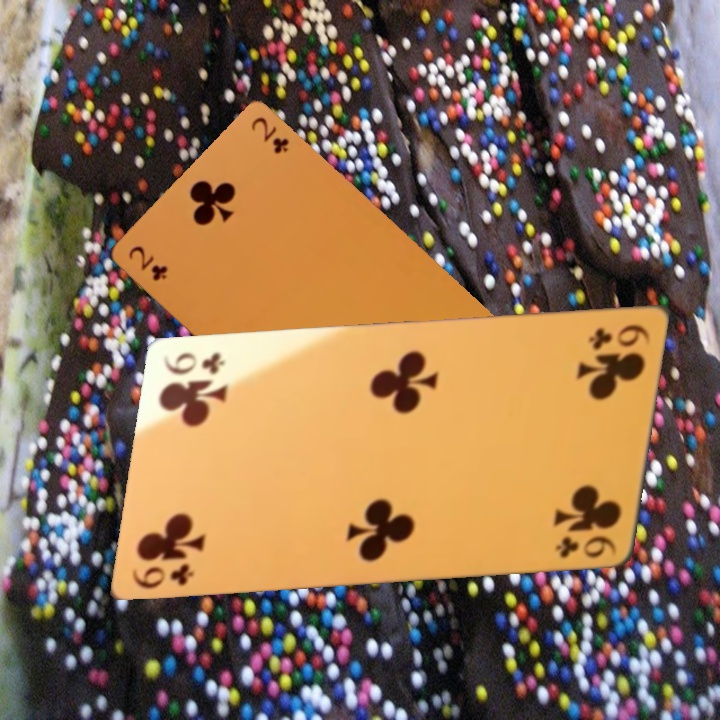2c: (240, 109, 295, 161), (118, 237, 173, 289)
6c: (155, 345, 233, 377), (122, 557, 200, 589), (578, 317, 656, 348), (545, 529, 623, 560)
